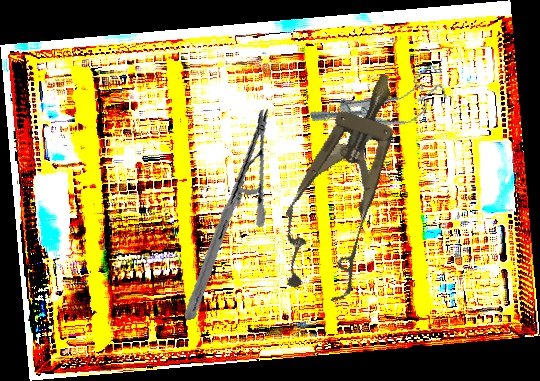Needle Holder: (154, 108, 300, 321)
Speculum: (263, 59, 429, 308), (306, 61, 454, 151)
